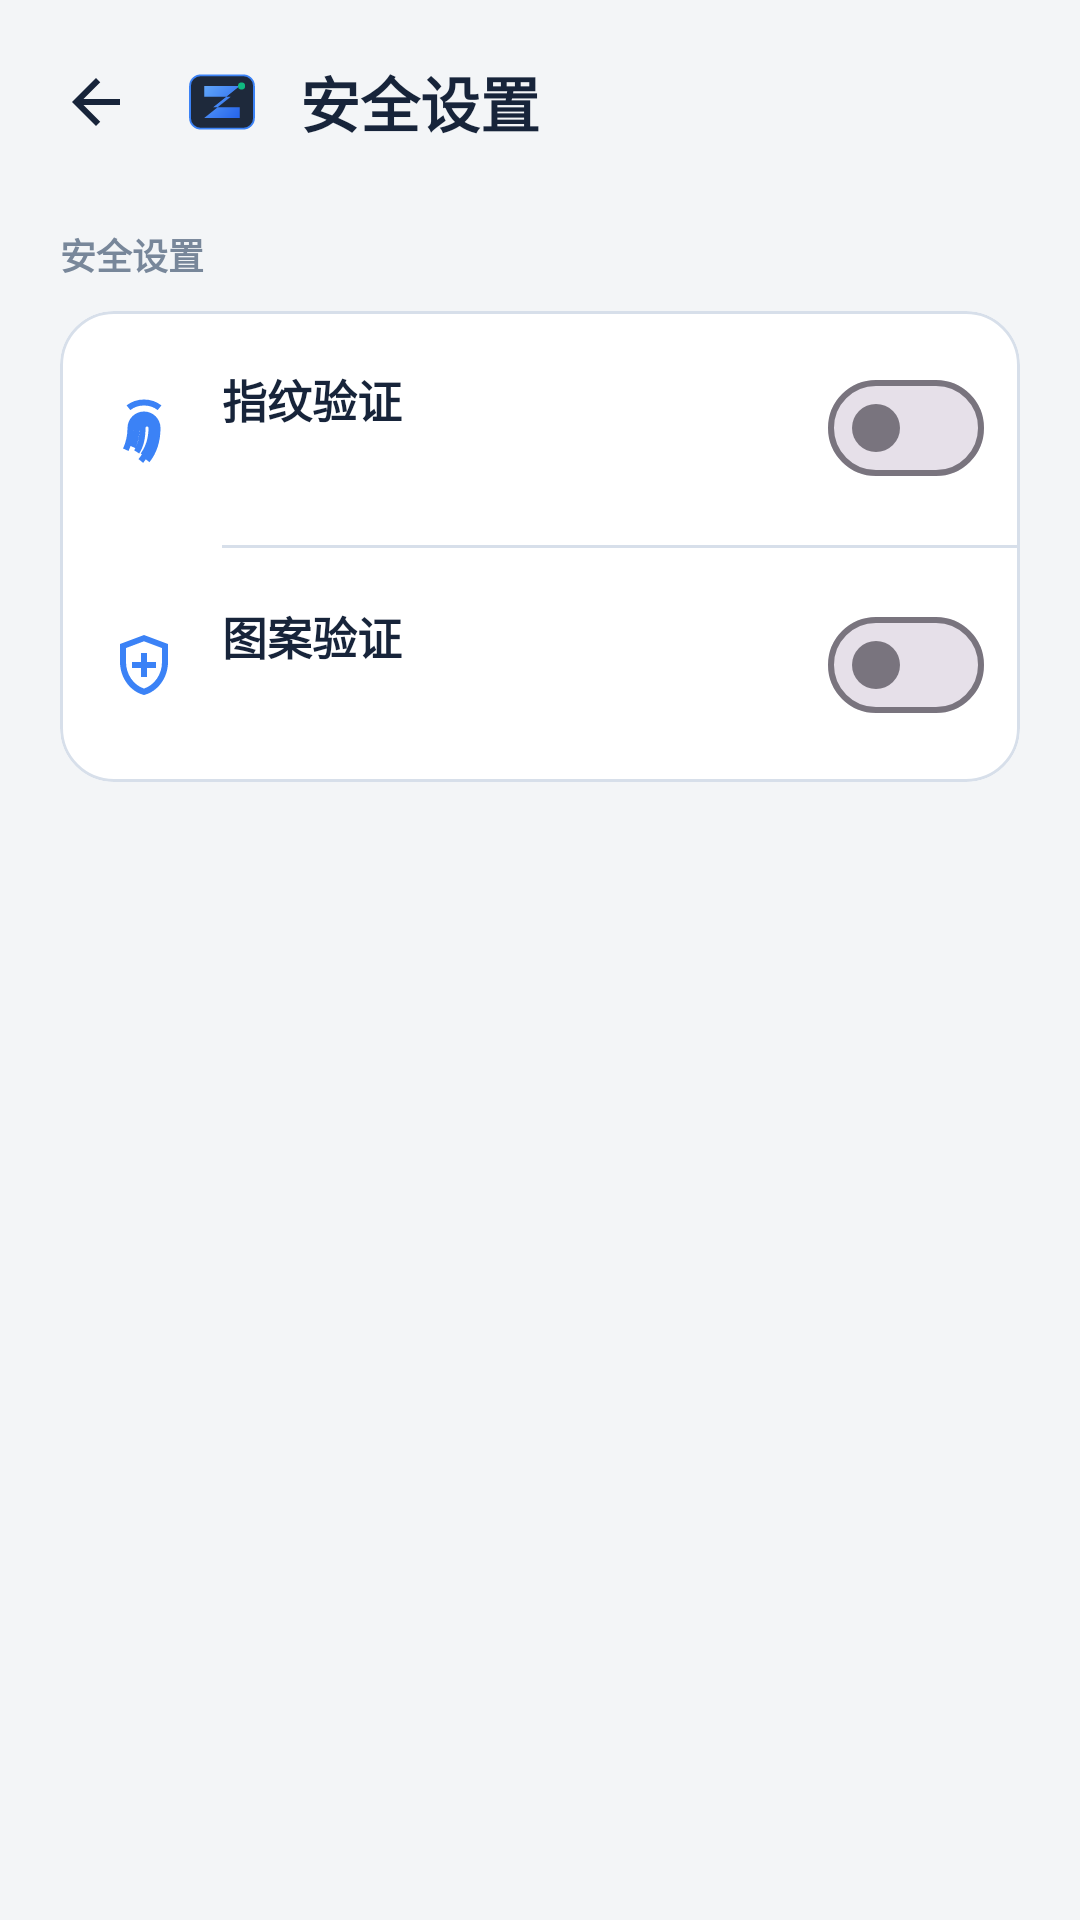

Locate icon controls on the screen. Image size 1080 x 1920, boxes as [x1=x1, y1=y1, x2=x2, y2=y2].
fingerprint: [x1=123, y1=399, x2=162, y2=463]
security: [x1=120, y1=635, x2=168, y2=695]
返回: [x1=72, y1=78, x2=120, y2=126]
